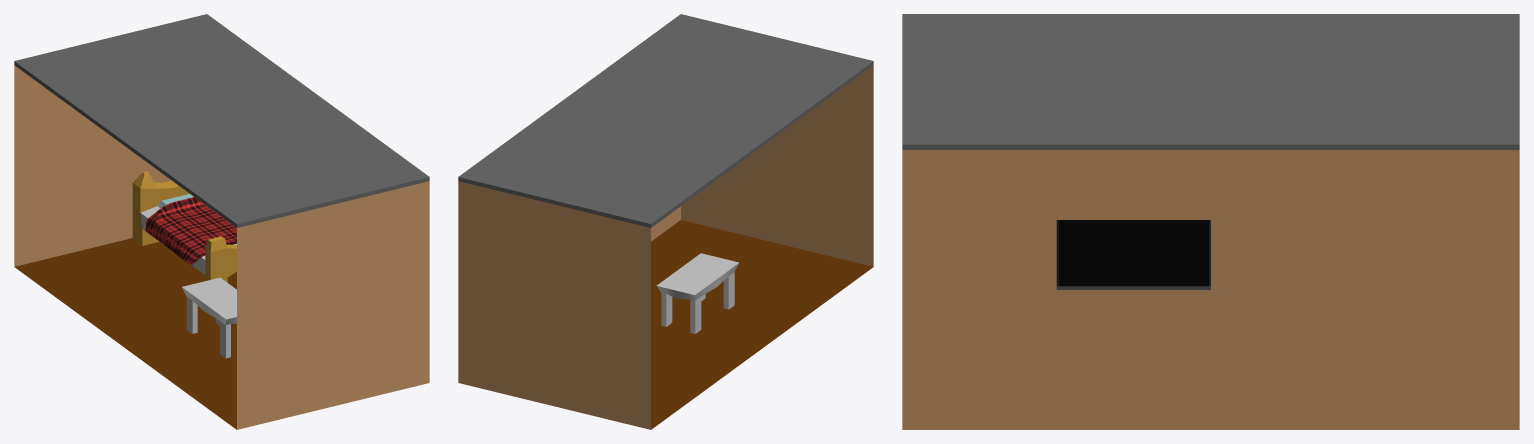
Rendered from Room.FBX.
The picture shows the model from 3 angles, left to right: view 1: azimuth 30°, elevation 25°; view 2: azimuth 150°, elevation 25°; view 3: azimuth 270°, elevation 25°; orthographic projection. The views are drawn at different scales.
Visible parts, largest first — view 1: Roof, RightWall, Floor, LeftWall, Cover, Bed, Table; view 2: Roof, LeftWall, RightWall, Floor, Table, BackWall; view 3: BackWall, Roof.
Part boxes in pixels (x1=…): Roof: x1=14, y1=14, x2=429, y2=227; RightWall: x1=237, y1=181, x2=429, y2=429; Floor: x1=14, y1=238, x2=236, y2=429; LeftWall: x1=14, y1=65, x2=170, y2=266; Cover: x1=145, y1=197, x2=236, y2=264; Bed: x1=132, y1=171, x2=236, y2=282; Table: x1=182, y1=277, x2=236, y2=358; Roof: x1=458, y1=14, x2=873, y2=227; LeftWall: x1=458, y1=181, x2=650, y2=429; RightWall: x1=681, y1=65, x2=873, y2=266; Floor: x1=651, y1=220, x2=873, y2=429; Table: x1=656, y1=253, x2=738, y2=333; BackWall: x1=651, y1=206, x2=680, y2=241; BackWall: x1=902, y1=150, x2=1519, y2=429; Roof: x1=902, y1=14, x2=1519, y2=149.
Size of the model in its own units: 50 by 51 by 100.
